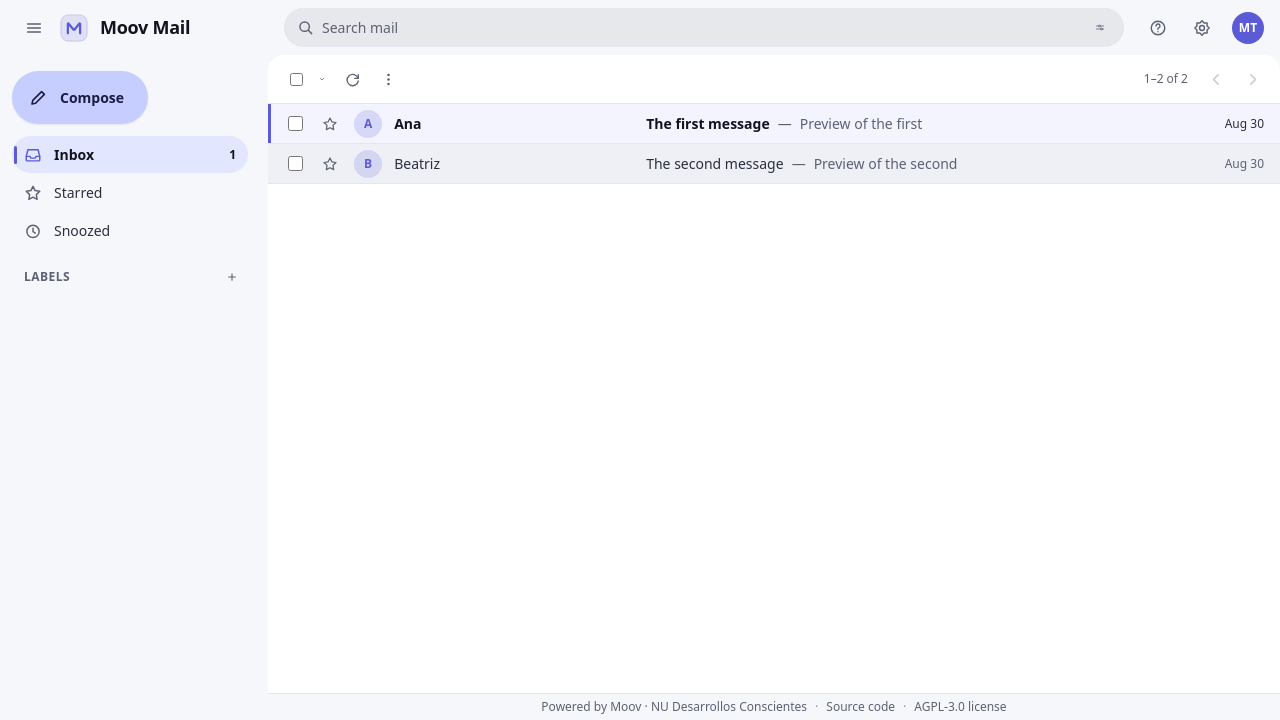
Scenario: MailScreen — the shell's canary › shows no bulk verbs until something is selected, then shows them (B-06)
This screenshot has width=1280, height=720.
Expected: the text "The first message" is shown, left=646, top=113, right=770, bottom=134
Expected: the button named "Refresh" is shown, left=336, top=63, right=368, bottom=95
Click the checkbox named "Select this conversation" in the row of "Ana".
click(296, 124)  # box left=288, top=116, right=303, bottom=131
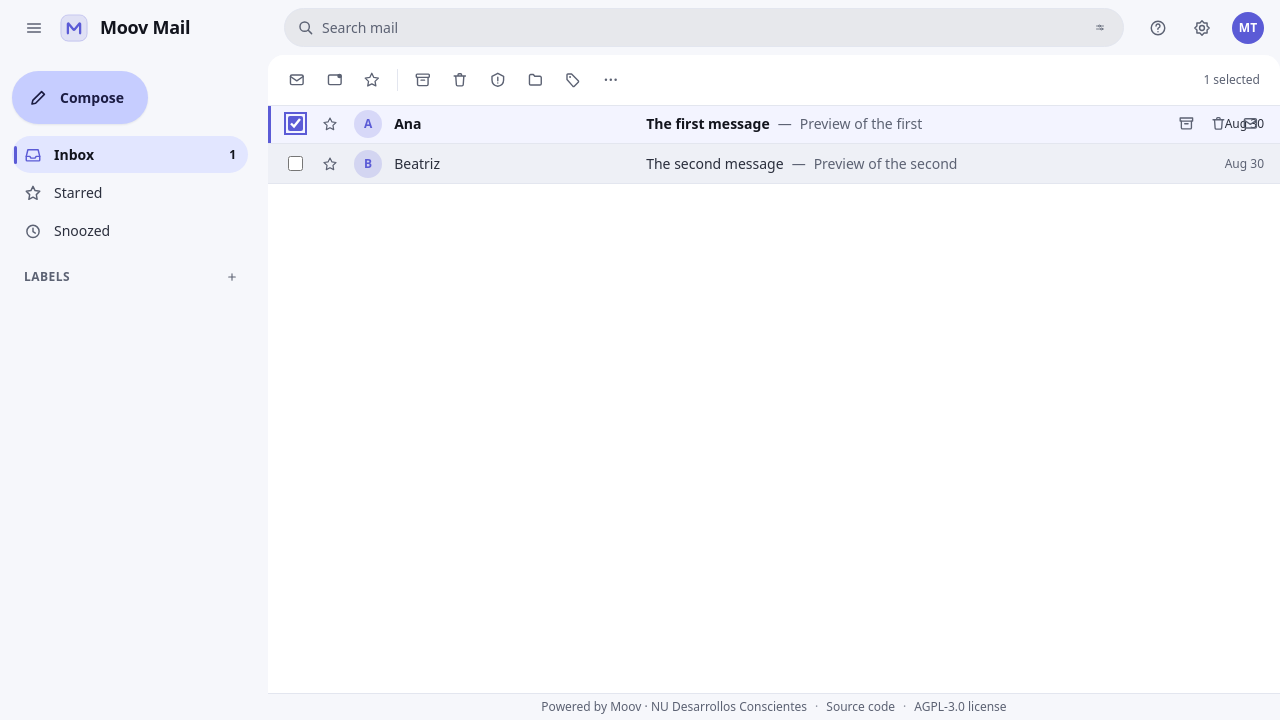
Expected: the button named "Refresh" is shown, left=336, top=63, right=368, bottom=95
Now the element showing "1 selected" is shown, box left=268, top=55, right=1279, bottom=106
